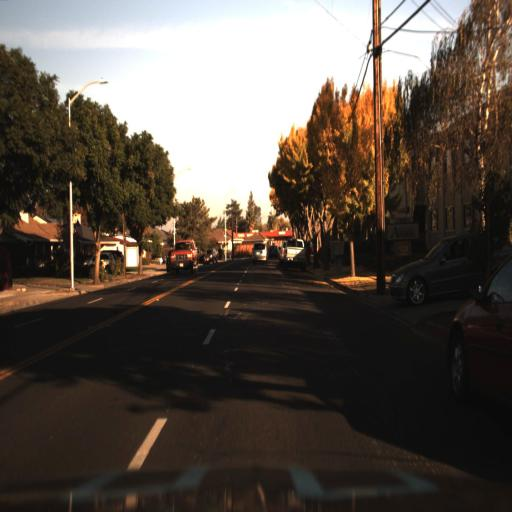car: (446, 247, 512, 416), (383, 234, 492, 307), (168, 238, 200, 277), (165, 237, 199, 272), (282, 237, 308, 271), (90, 251, 117, 273), (251, 241, 271, 268), (202, 242, 222, 266)
